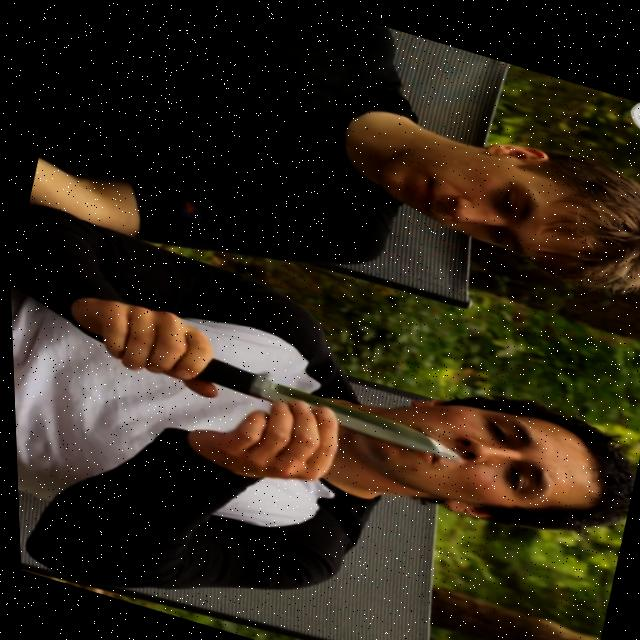knife: (189, 351, 468, 470)
